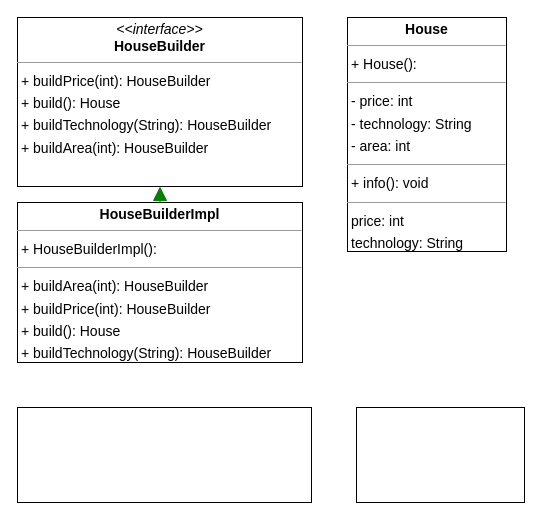
This 542x520 diagram has some shape labels left out. The box of each missing label's shape, as (x1, y1, x2, y2) in pixels:
Director + Director(): + constructBuilding(HouseBuilder): House: (16, 406, 312, 502)
Main + Main(): + main(String[]): void: (356, 406, 524, 502)
